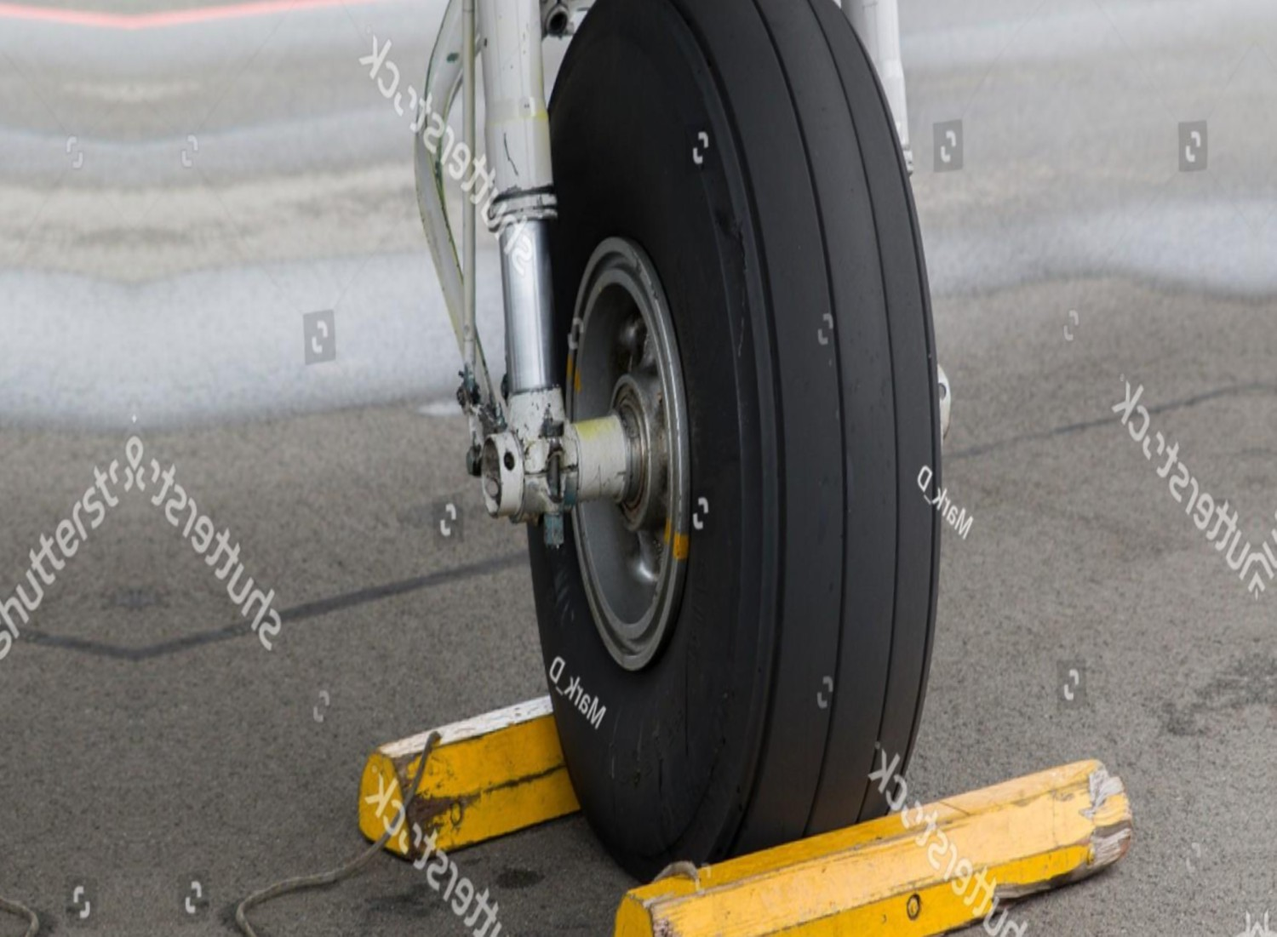chock: (589, 735, 1148, 937), (347, 670, 744, 876)
wheel: (500, 0, 992, 903)
